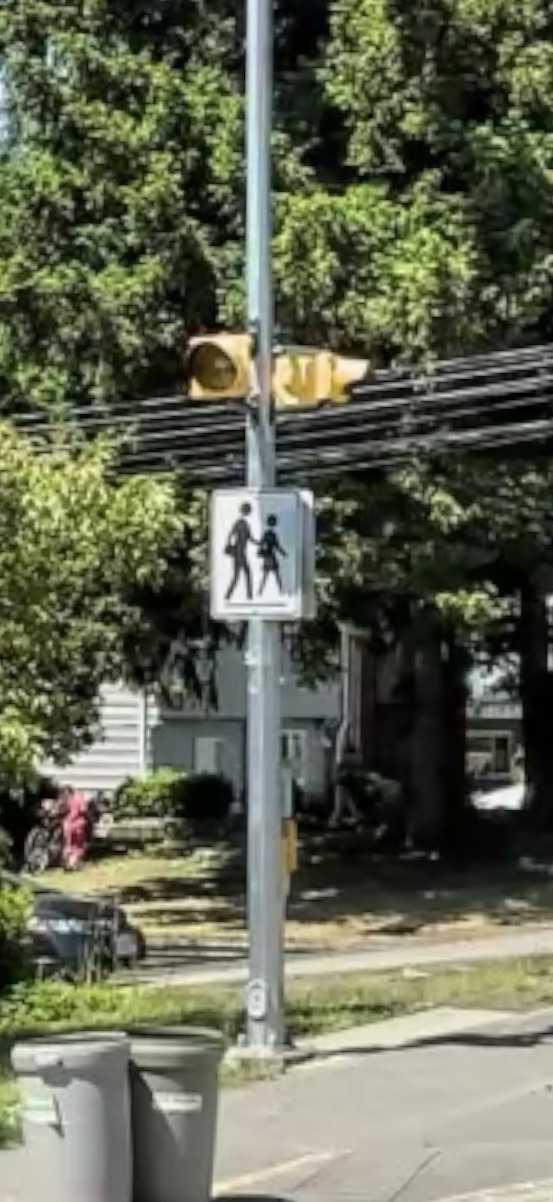pedestrian_crossing: (176, 445, 364, 639)
